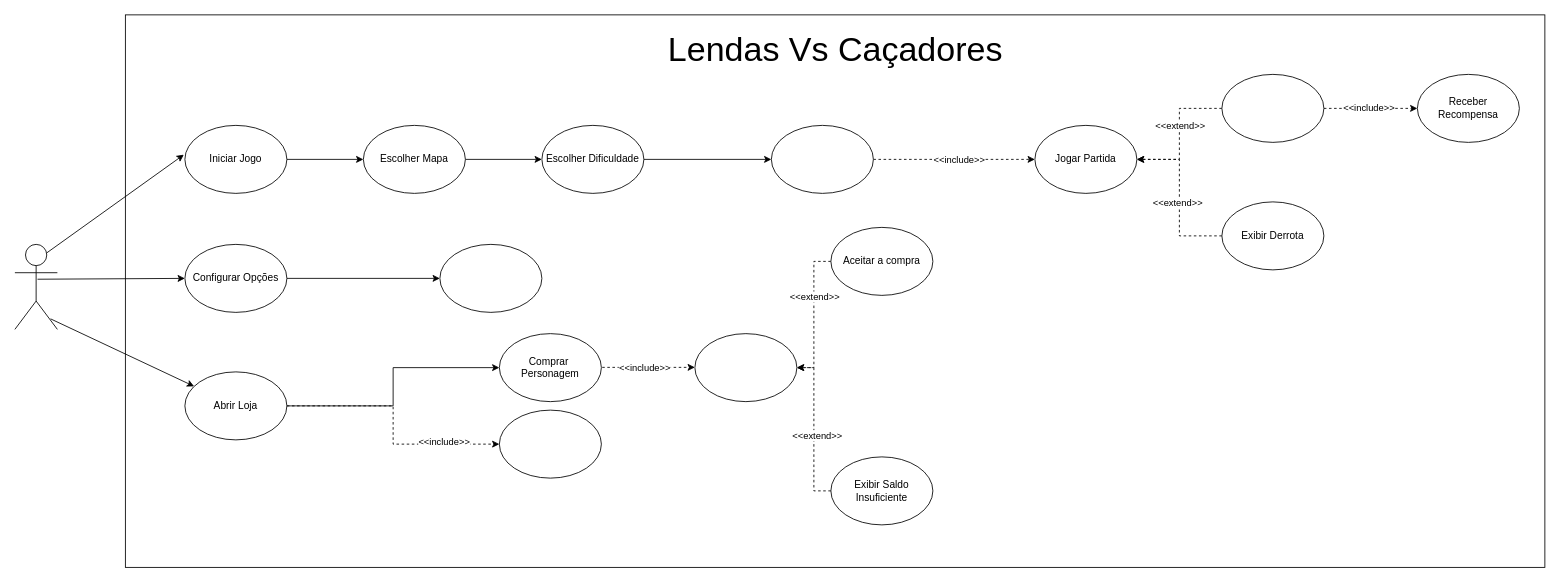
This 1560x582 diagram has some shape labels left out. The box of each missing label's shape, as (x1, y1, x2, y2) in pixels:
Carregar nível: (771, 125, 873, 193)
Exibir Saldo: (499, 409, 601, 478)
Exibir Vitoria: (1221, 74, 1324, 142)
Jogador: (14, 244, 57, 329)
Salvar Opções: (439, 244, 542, 312)
Verificar Saldo: (694, 333, 797, 402)
